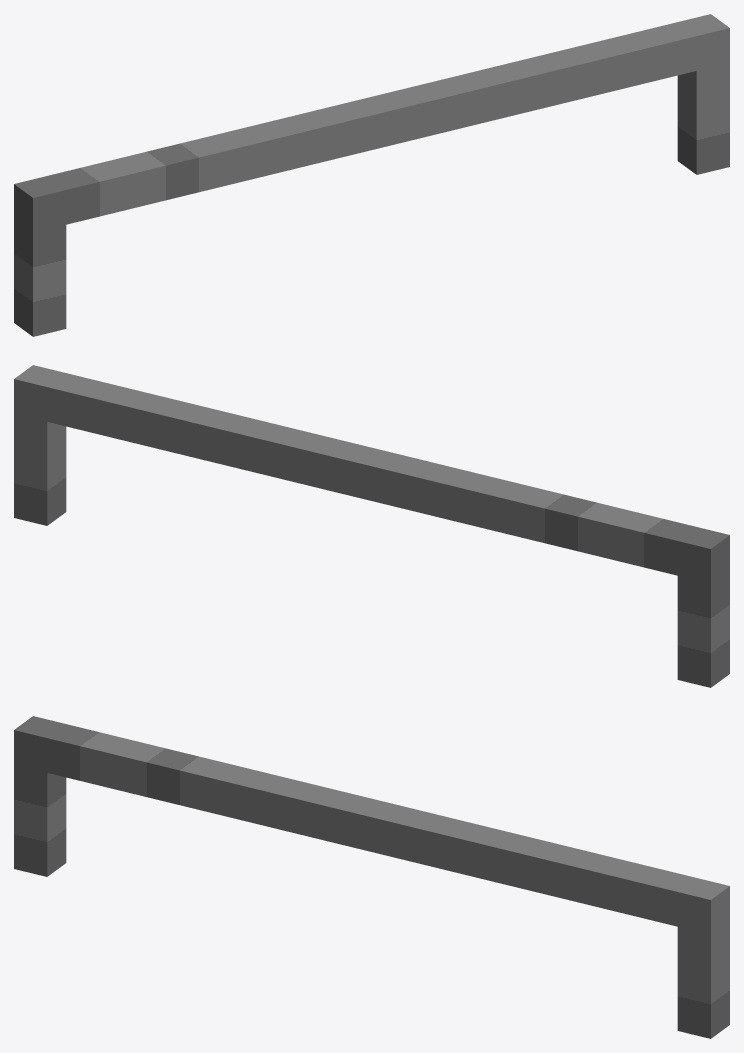
The model's file is skategrind.obj.
The picture shows the model from 3 angles, top to bottom: view 1: azimuth 30°, elevation 25°; view 2: azimuth 150°, elevation 25°; view 3: azimuth 330°, elevation 25°; orthographic projection.
Parts seen in each view (by area): view 1: Box_34; view 2: Box_34; view 3: Box_34.
Part boxes in pixels (<box>): Box_34: <box>14,14,729,336</box>; Box_34: <box>14,365,729,687</box>; Box_34: <box>14,716,729,1038</box>.
Size of the model in its own units: 21 by 4 by 1.
1 material, 1 textured.
